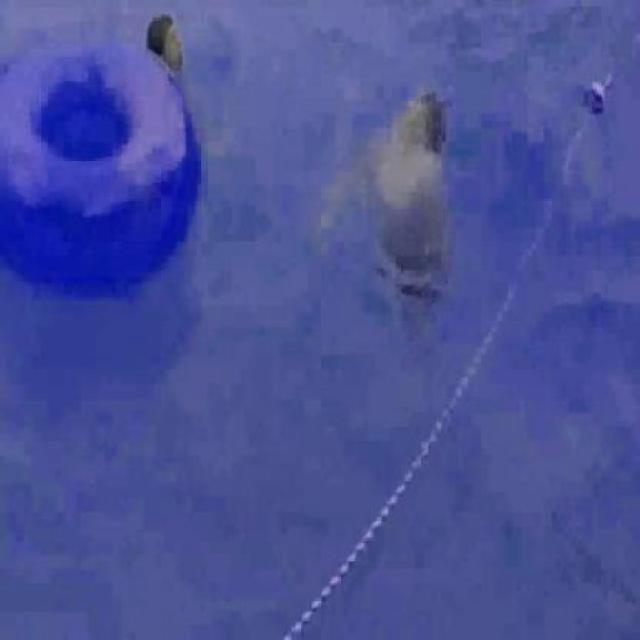drowning: (356, 79, 458, 306), (129, 9, 196, 76)
